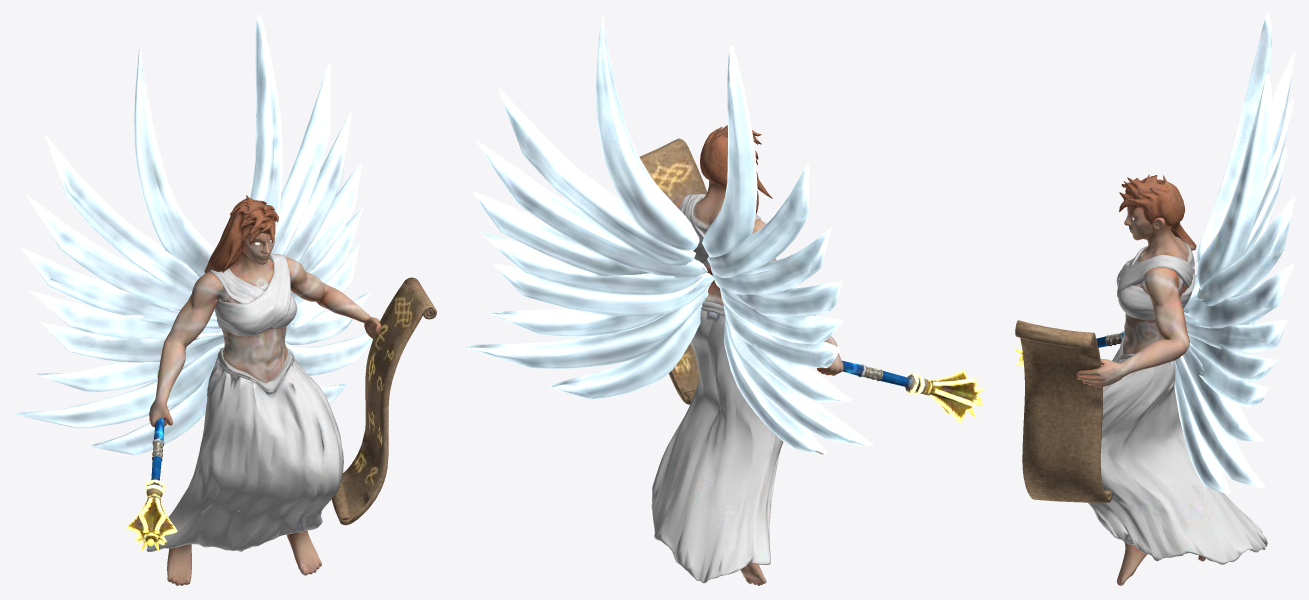
Rendered from MZ4250 - Deva Female_1_2025.glb.
3 views of the same model, side by side, from view 1: azimuth 30°, elevation 25°; view 2: azimuth 150°, elevation 25°; view 3: azimuth 270°, elevation 25° (orthographic). The views are drawn at different scales.
Visible parts, largest first — view 1: Deva Female.001; view 2: Deva Female.001; view 3: Deva Female.001.
Boxes of the visible parts, x1,y1,x2,y2 form: Deva Female.001: (14,14,436,585); Deva Female.001: (465,14,985,585); Deva Female.001: (1014,14,1294,585).
Size of the model in its own units: 96.05 by 128 by 60.07.
1 material, 1 textured.
